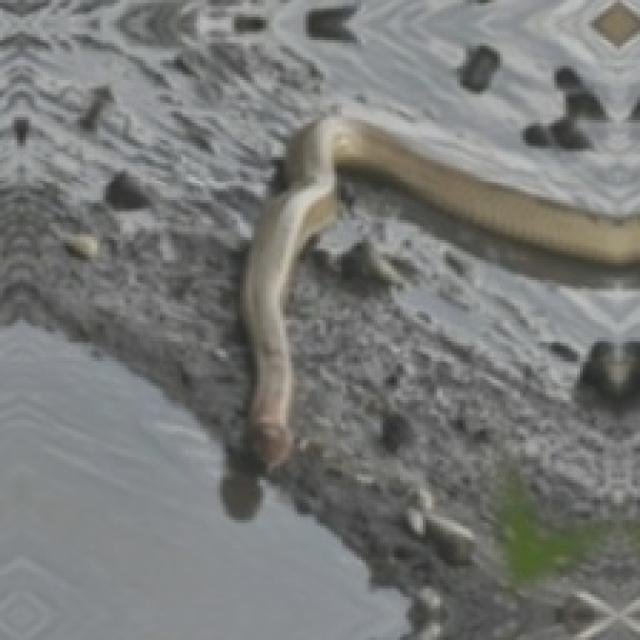king cobra: (243, 117, 637, 469)
